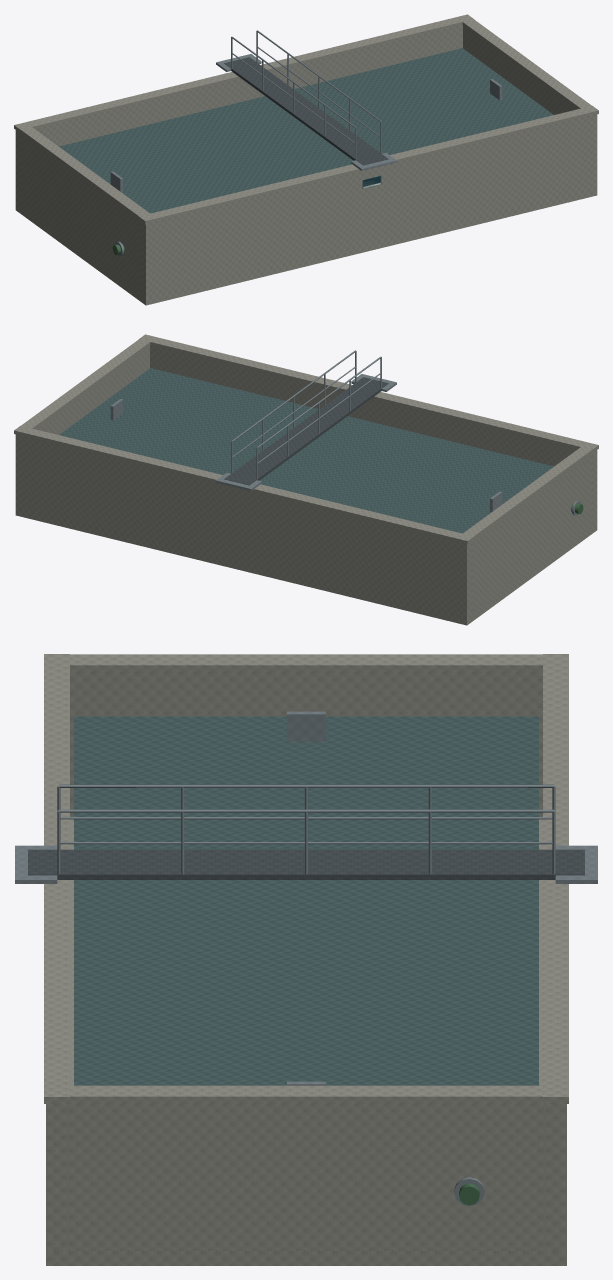
The model's file is PZ_CFW_01_Rectangular_SettlingBasin_16x8m.glb.
The picture shows the model from 3 angles, top to bottom: view 1: azimuth 30°, elevation 25°; view 2: azimuth 150°, elevation 25°; view 3: azimuth 270°, elevation 25°; orthographic projection. The views are drawn at different scales.
Parts seen in each view (by area): view 1: BASIN_RECT_BasinWall_Front, BASIN_RECT_OPTIONAL_Static_Settling_Water, BASIN_RECT_BasinWall_Rear, BASIN_RECT_BasinWall_Left, BASIN_RECT_FoundationSlab_16x8, BASIN_RECT_Coping_Front, BASIN_RECT_Coping_Rear, BASIN_RECT_Service_Crosswalk_Grating, BASIN_RECT_BasinWall_Right, BASIN_RECT_Coping_Left, BASIN_RECT_Coping_Right; view 2: BASIN_RECT_BasinWall_Rear, BASIN_RECT_OPTIONAL_Static_Settling_Water, BASIN_RECT_BasinWall_Front, BASIN_RECT_BasinWall_Left, BASIN_RECT_FoundationSlab_16x8, BASIN_RECT_Coping_Rear, BASIN_RECT_Coping_Front, BASIN_RECT_Service_Crosswalk_Grating, BASIN_RECT_BasinWall_Right, BASIN_RECT_Coping_Left, BASIN_RECT_Coping_Right; view 3: BASIN_RECT_OPTIONAL_Static_Settling_Water, BASIN_RECT_BasinWall_Right, BASIN_RECT_BasinWall_Left, BASIN_RECT_Service_Crosswalk_Grating, BASIN_RECT_Coping_Front, BASIN_RECT_Coping_Rear, BASIN_RECT_FoundationSlab_16x8, BASIN_RECT_Coping_Left, BASIN_RECT_Coping_Right, BASIN_RECT_BasinWall_Front, BASIN_RECT_BasinWall_Rear, BASIN_RECT_WalkwayTopHandrail_L (+6 smaller).
Part boxes in pixels (bbox=[...]): BASIN_RECT_BasinWall_Front: bbox=[140, 114, 597, 297]; BASIN_RECT_OPTIONAL_Static_Settling_Water: bbox=[59, 48, 553, 213]; BASIN_RECT_BasinWall_Rear: bbox=[15, 25, 462, 205]; BASIN_RECT_BasinWall_Left: bbox=[21, 134, 140, 293]; BASIN_RECT_FoundationSlab_16x8: bbox=[15, 188, 597, 305]; BASIN_RECT_Coping_Front: bbox=[138, 105, 598, 224]; BASIN_RECT_Coping_Rear: bbox=[14, 14, 473, 132]; BASIN_RECT_Service_Crosswalk_Grating: bbox=[224, 57, 388, 165]; BASIN_RECT_BasinWall_Right: bbox=[463, 26, 576, 114]; BASIN_RECT_Coping_Left: bbox=[20, 127, 149, 219]; BASIN_RECT_Coping_Right: bbox=[462, 19, 591, 109]; BASIN_RECT_BasinWall_Rear: bbox=[15, 434, 472, 617]; BASIN_RECT_OPTIONAL_Static_Settling_Water: bbox=[59, 368, 553, 533]; BASIN_RECT_BasinWall_Front: bbox=[150, 345, 597, 525]; BASIN_RECT_BasinWall_Left: bbox=[472, 454, 591, 613]; BASIN_RECT_FoundationSlab_16x8: bbox=[15, 508, 597, 625]; BASIN_RECT_Coping_Rear: bbox=[14, 425, 474, 544]; BASIN_RECT_Coping_Front: bbox=[139, 334, 598, 452]; BASIN_RECT_Service_Crosswalk_Grating: bbox=[224, 377, 388, 485]; BASIN_RECT_BasinWall_Right: bbox=[36, 346, 149, 434]; BASIN_RECT_Coping_Left: bbox=[463, 447, 592, 539]; BASIN_RECT_Coping_Right: bbox=[21, 339, 150, 429]; BASIN_RECT_OPTIONAL_Static_Settling_Water: bbox=[74, 716, 538, 1085]; BASIN_RECT_BasinWall_Right: bbox=[68, 1103, 544, 1250]; BASIN_RECT_BasinWall_Left: bbox=[70, 672, 542, 816]; BASIN_RECT_Service_Crosswalk_Grating: bbox=[28, 849, 584, 879]; BASIN_RECT_Coping_Front: bbox=[44, 654, 69, 1103]; BASIN_RECT_Coping_Rear: bbox=[543, 654, 568, 1103]; BASIN_RECT_FoundationSlab_16x8: bbox=[46, 819, 566, 1265]; BASIN_RECT_Coping_Left: bbox=[70, 654, 542, 672]; BASIN_RECT_Coping_Right: bbox=[70, 1085, 542, 1103]; BASIN_RECT_BasinWall_Front: bbox=[46, 1104, 67, 1250]; BASIN_RECT_BasinWall_Rear: bbox=[545, 1104, 566, 1250]; BASIN_RECT_WalkwayTopHandrail_L: bbox=[59, 784, 553, 787].
Bounding box in the file's own units: 16.5 × 4.2 × 8.95.
Materials: 6 (6 with a texture image).
